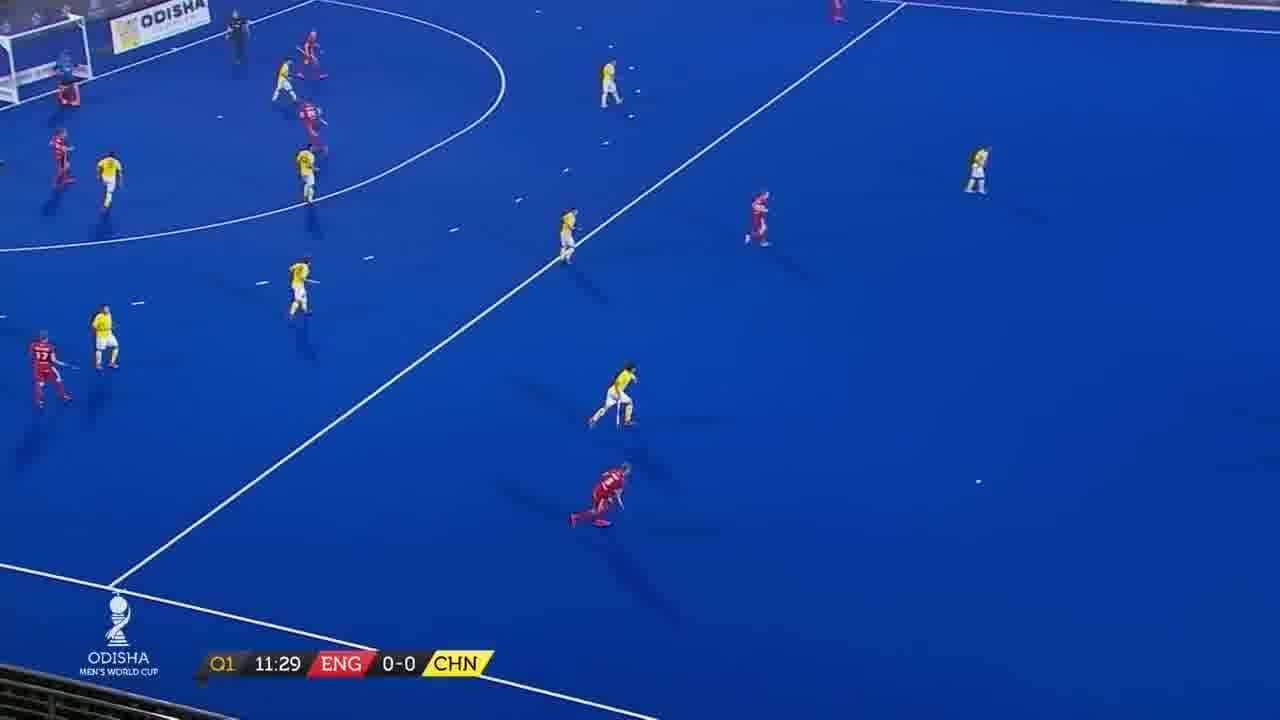ball: (973, 476, 985, 488)
